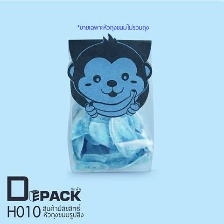snack: (55, 28, 162, 178)
